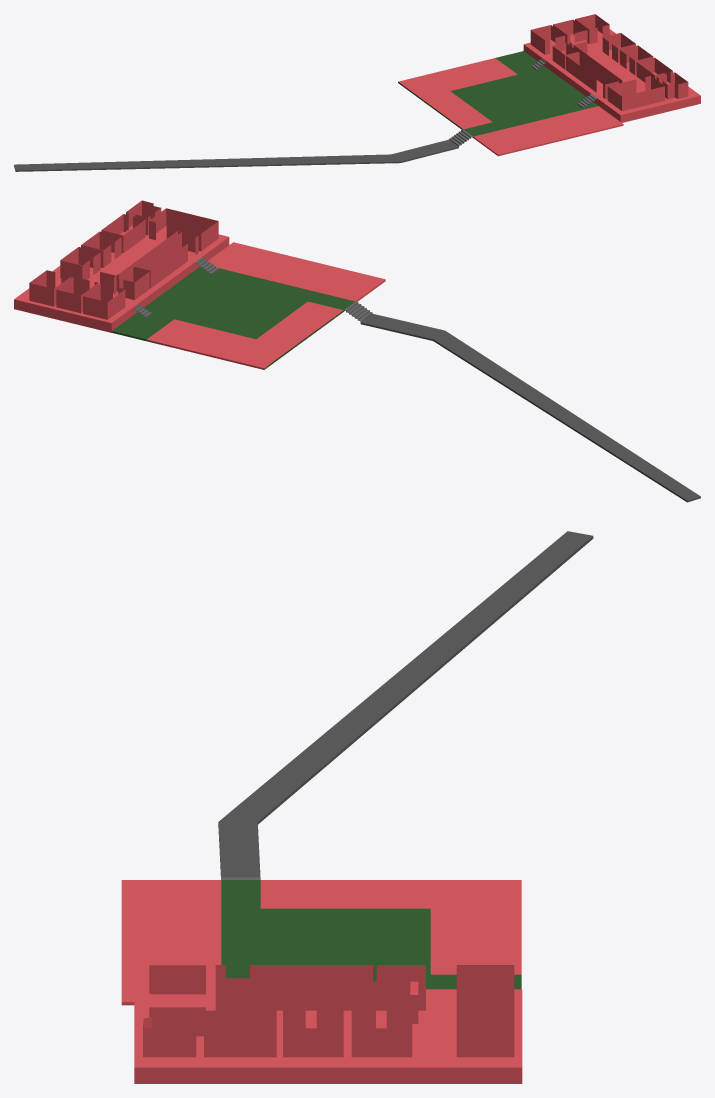
File: Map.glb
3 views of the same model, one above another, from view 1: azimuth 30°, elevation 25°; view 2: azimuth 150°, elevation 25°; view 3: azimuth 270°, elevation 25° (orthographic). The views are drawn at different scales.
Parts seen in each view (by area): view 1: pathway.002, pathway, COR L, COR B, COR F, Kitchen, VERANDAH, R7, R2, R5, R1, R4 (+4 smaller); view 2: pathway.002, pathway, COR L, COR F, COR B, VERANDAH, Kitchen, R7, R4, R6, R5, R2 (+4 smaller); view 3: COR B, pathway.002, pathway, COR L, COR F, Wall, R2, R5, R4, R3, Kitchen, VERANDAH (+4 smaller).
Boxes of the visible parts, x1=… form: pathway.002: x1=398, y1=51, x2=598, y2=137; pathway: x1=14, y1=139, x2=458, y2=171; COR L: x1=398, y1=58, x2=517, y2=129; COR B: x1=523, y1=29, x2=700, y2=122; COR F: x1=473, y1=106, x2=623, y2=156; Kitchen: x1=607, y1=76, x2=664, y2=111; VERANDAH: x1=566, y1=52, x2=618, y2=98; R7: x1=530, y1=25, x2=565, y2=54; R2: x1=636, y1=57, x2=672, y2=83; R5: x1=575, y1=14, x2=609, y2=43; R1: x1=656, y1=72, x2=688, y2=99; R4: x1=602, y1=33, x2=635, y2=62; pathway.002: x1=111, y1=267, x2=354, y2=369; pathway: x1=360, y1=314, x2=700, y2=502; COR L: x1=146, y1=301, x2=343, y2=369; COR F: x1=208, y1=242, x2=385, y2=301; COR B: x1=14, y1=225, x2=229, y2=332; VERANDAH: x1=134, y1=232, x2=198, y2=288; Kitchen: x1=149, y1=208, x2=218, y2=251; R7: x1=83, y1=283, x2=125, y2=319; R4: x1=60, y1=247, x2=100, y2=279; R6: x1=56, y1=277, x2=98, y2=313; R5: x1=29, y1=270, x2=71, y2=306; R2: x1=101, y1=214, x2=145, y2=253; COR B: x1=134, y1=989, x2=522, y2=1083; pathway.002: x1=221, y1=880, x2=521, y2=989; pathway: x1=218, y1=531, x2=593, y2=877; COR L: x1=260, y1=880, x2=521, y2=974; COR F: x1=121, y1=880, x2=221, y2=1005; Wall: x1=215, y1=981, x2=425, y2=1023; R2: x1=204, y1=1010, x2=276, y2=1057; R5: x1=456, y1=1008, x2=514, y2=1057; R4: x1=351, y1=1010, x2=412, y2=1057; R3: x1=283, y1=1010, x2=343, y2=1057; Kitchen: x1=149, y1=965, x2=205, y2=1036; VERANDAH: x1=215, y1=965, x2=372, y2=981.
Size of the model in its own units: 4.12 by 0.2003 by 1.46.
